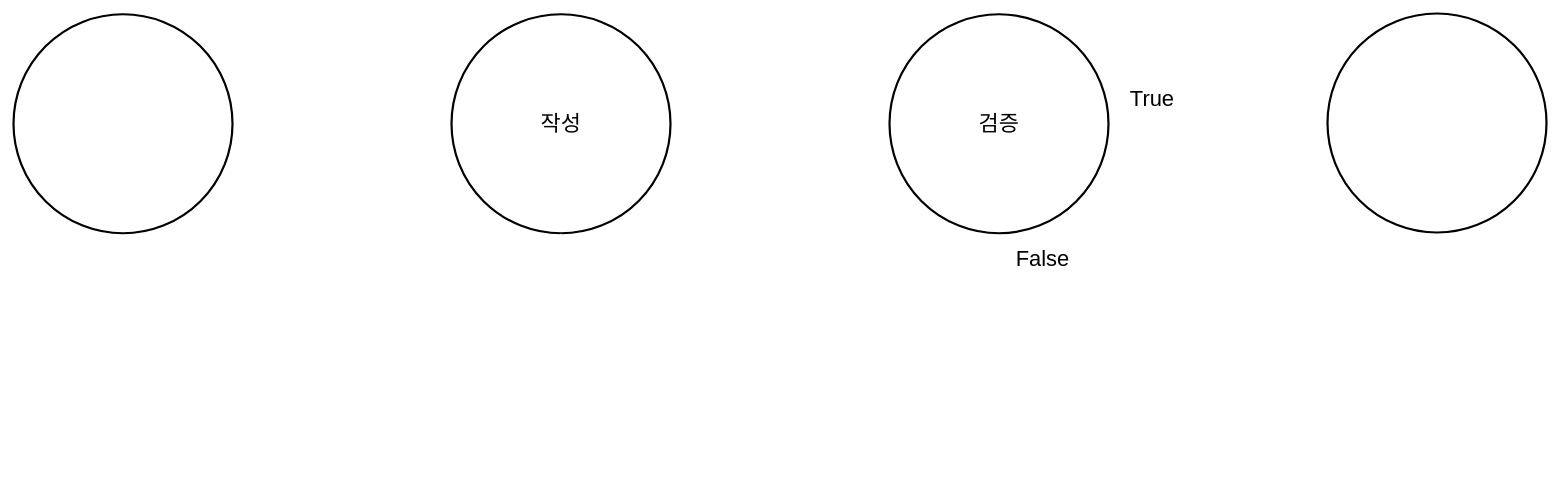
Some shapes in this 1560 by 504 pixel diagram are drawn without their labels. Each missing label, with the centre of its shape:
"저장" belongs at point 1436,122.
"판단" belongs at point 122,123.
